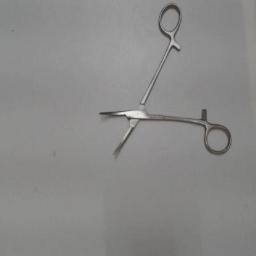Crile Artery Forceps: (95, 0, 233, 160)
